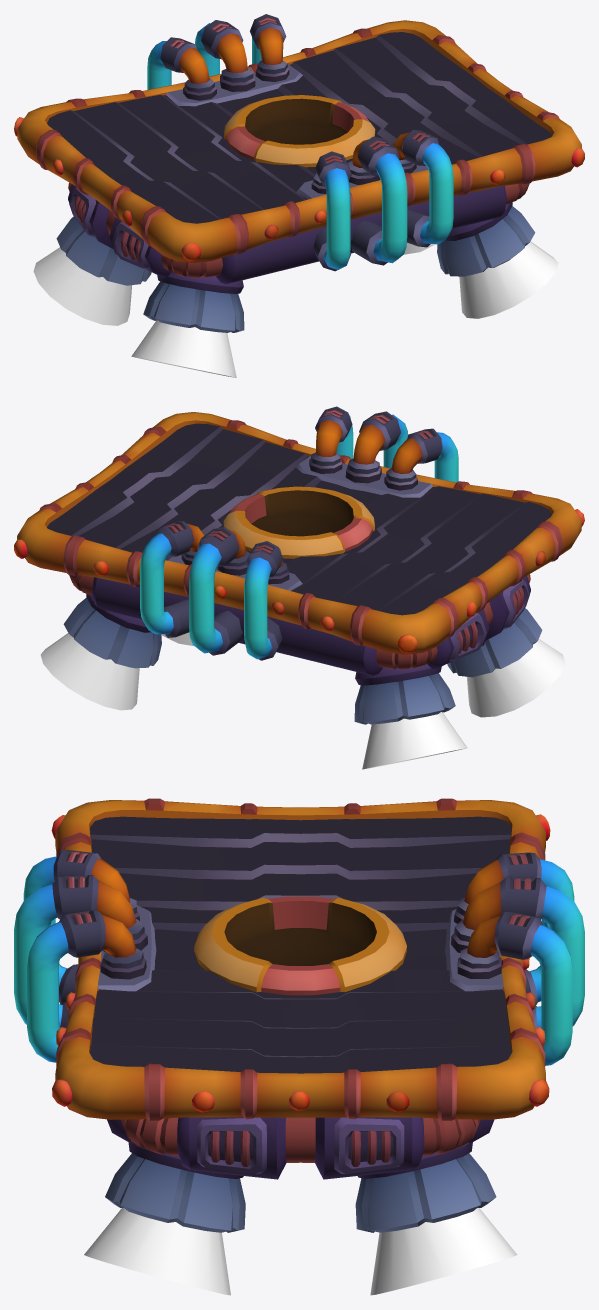
The model's file is SM_Checkpoint_01.fbx.
The picture shows the model from 3 angles, top to bottom: view 1: azimuth 30°, elevation 25°; view 2: azimuth 150°, elevation 25°; view 3: azimuth 270°, elevation 25°; orthographic projection. The views are drawn at different scales.
Parts seen in each view (by area): view 1: SM_Checkpoint_01; view 2: SM_Checkpoint_01; view 3: SM_Checkpoint_01.
Boxes of the visible parts, bbox=[...] form: SM_Checkpoint_01: bbox=[14, 14, 584, 377]; SM_Checkpoint_01: bbox=[14, 406, 584, 769]; SM_Checkpoint_01: bbox=[14, 798, 584, 1295].
Bounding box in the file's own units: 10.52 × 5.5 × 8.85.
